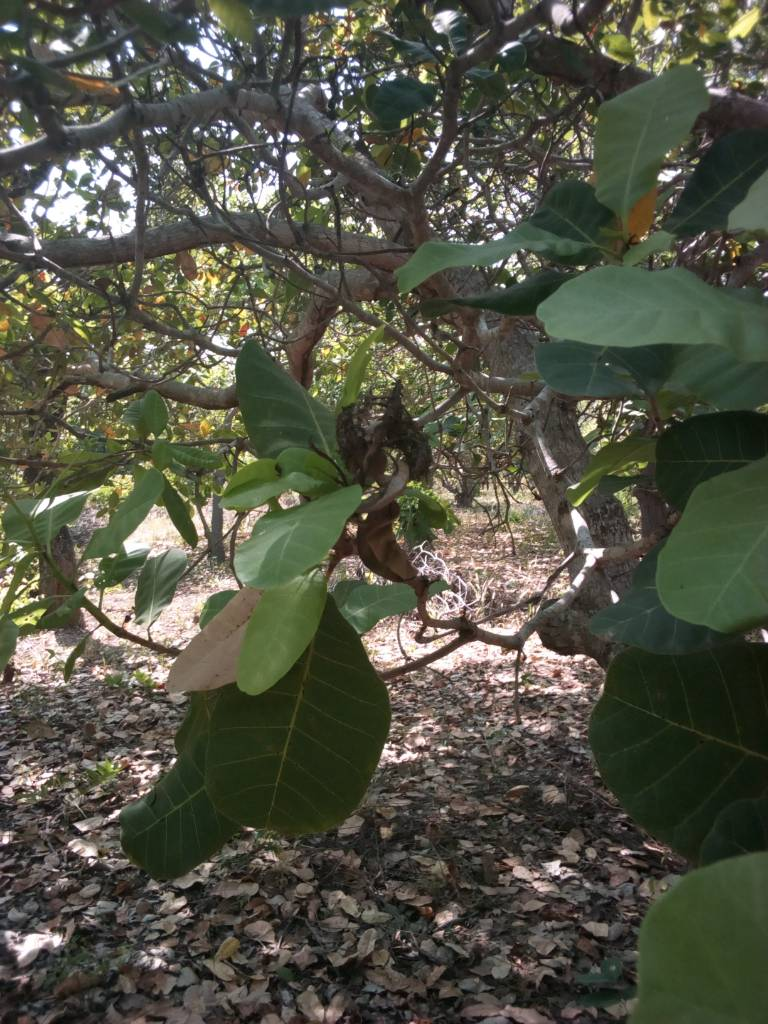Dessèchement des bourgeons: (330, 391, 433, 483), (363, 496, 425, 586)
